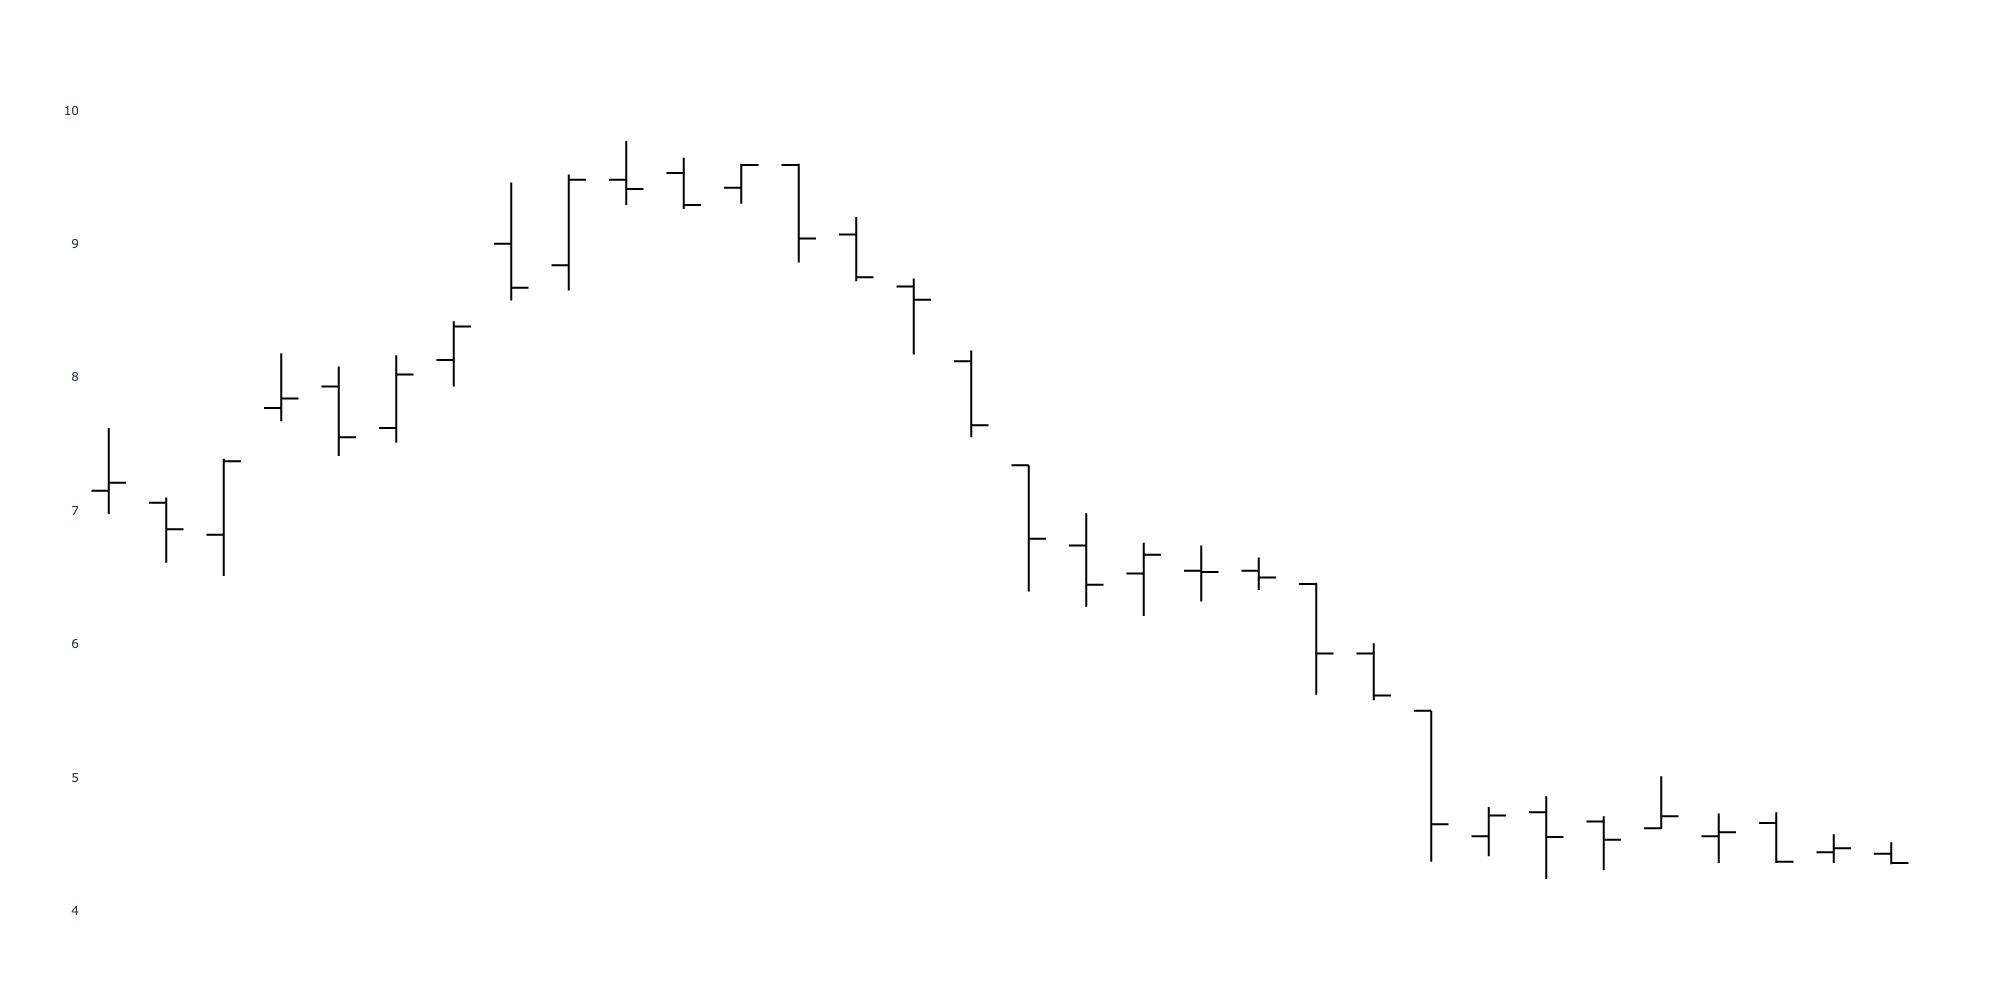p: (1469, 769, 1929, 872)
